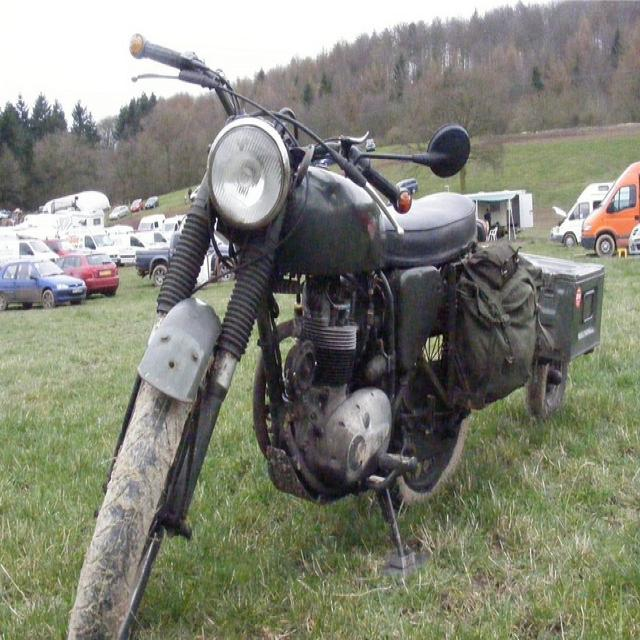motor: (66, 20, 487, 633)
